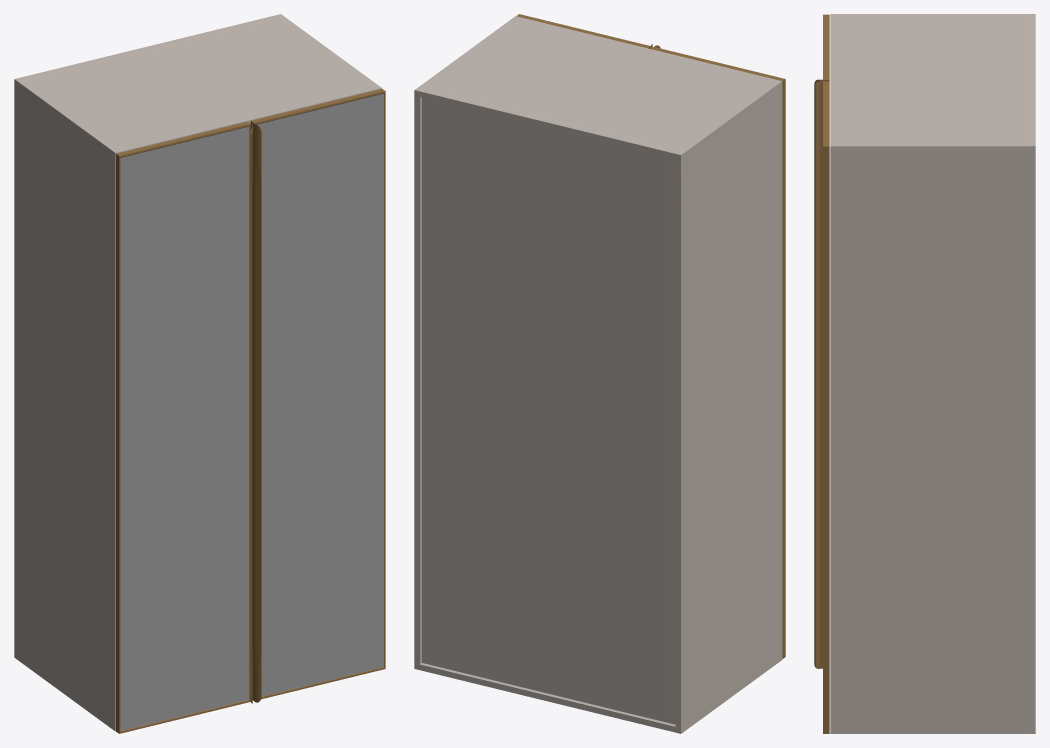
3 renders of one model, left to right at view 1: azimuth 30°, elevation 25°; view 2: azimuth 150°, elevation 25°; view 3: azimuth 270°, elevation 25°, orthographic.
Visible parts, largest first — view 1: Object_4.003; view 2: Object_4.003; view 3: Object_4.003.
Boxes of the visible parts, left/top/right/bottom form: Object_4.003: left=14, top=14, right=385, bottom=733; Object_4.003: left=414, top=14, right=785, bottom=733; Object_4.003: left=814, top=14, right=1035, bottom=733.
Size of the model in its own units: 0.868 by 1.8 by 0.6149.
Materials: 4 (2 with a texture image).
